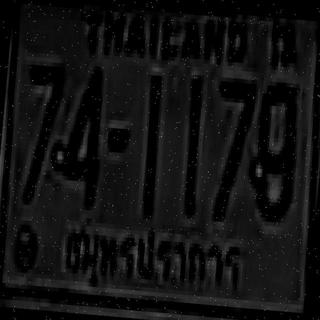N01: (180, 74, 203, 215), (139, 75, 162, 211)
N04: (58, 62, 105, 204)
N07: (207, 75, 255, 218), (18, 60, 63, 203)
N09: (246, 76, 300, 219)
P57: (55, 212, 250, 300)
